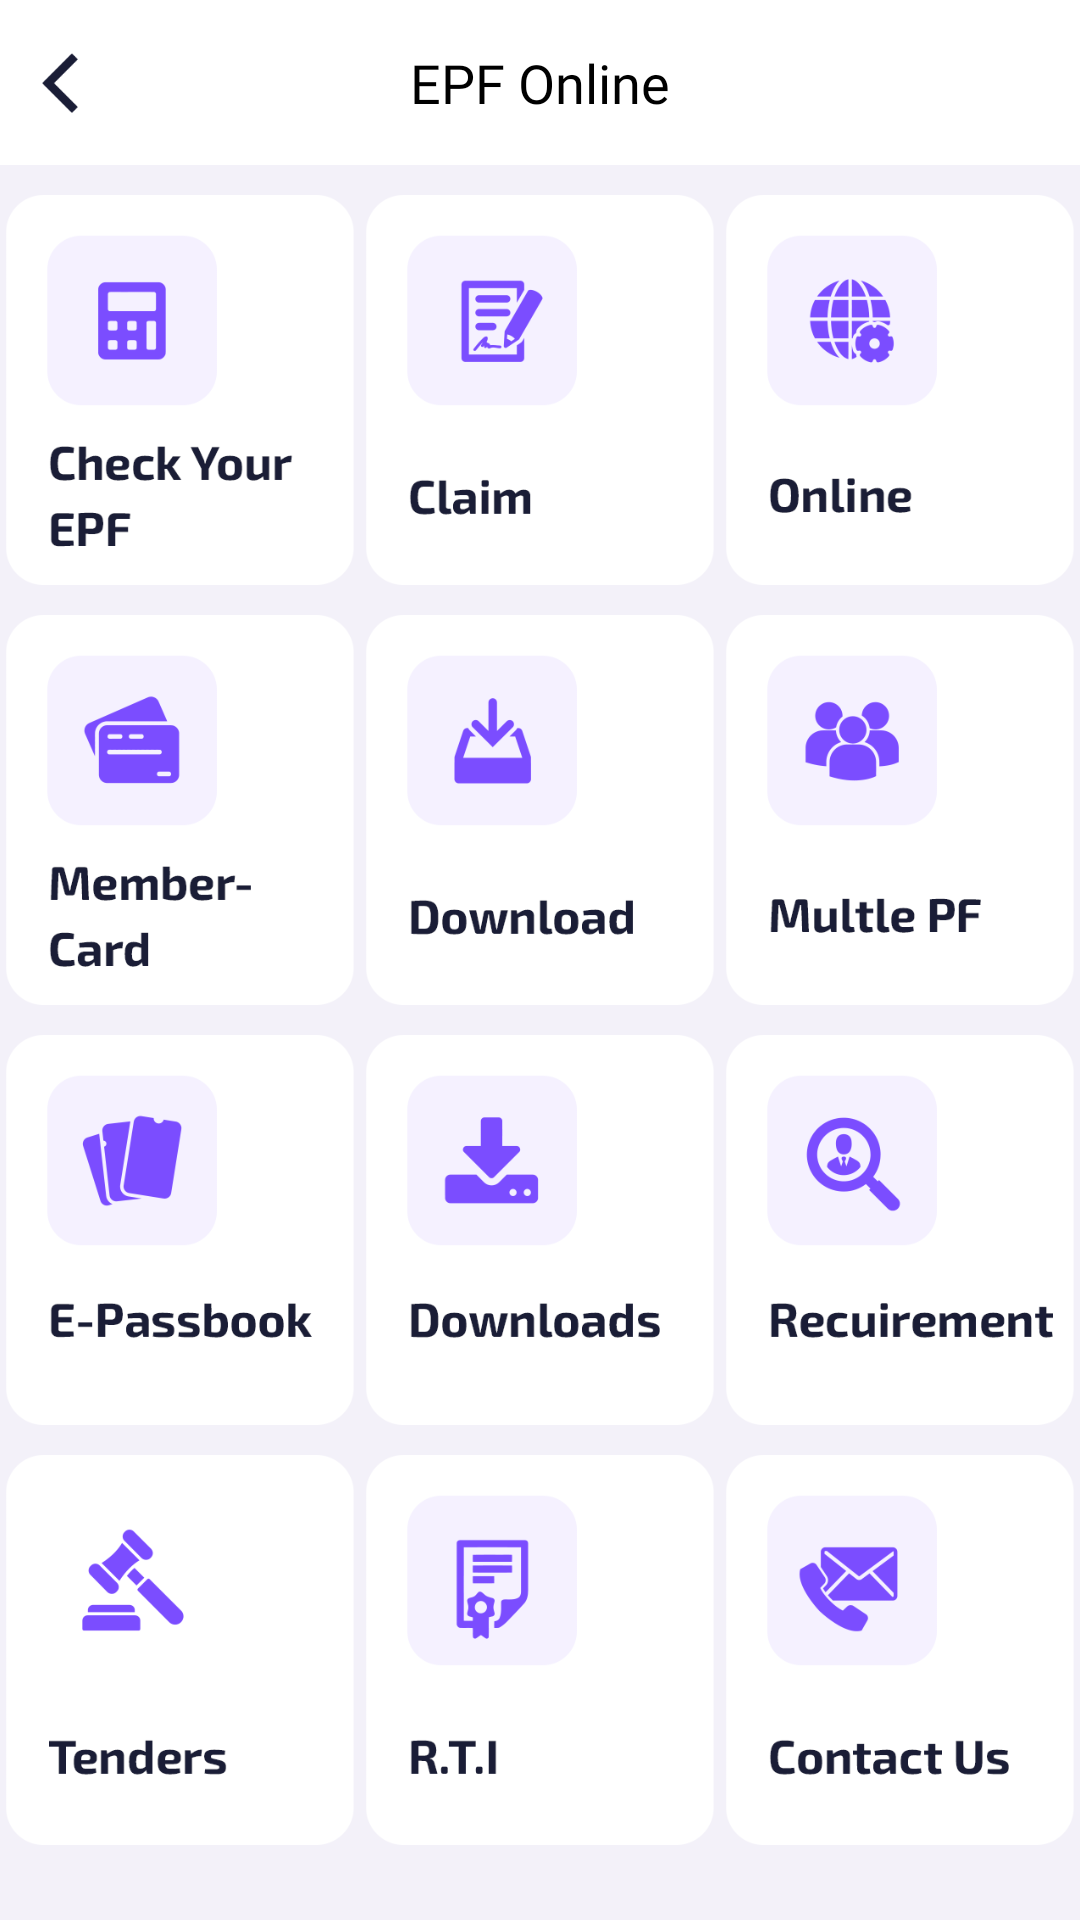

Named icons in this screenshot (1080w x 1920h) and their bounding boxes, [left=x1, top=y1, right=x2, bottom=y2]:
back: [left=42, top=53, right=78, bottom=113]
